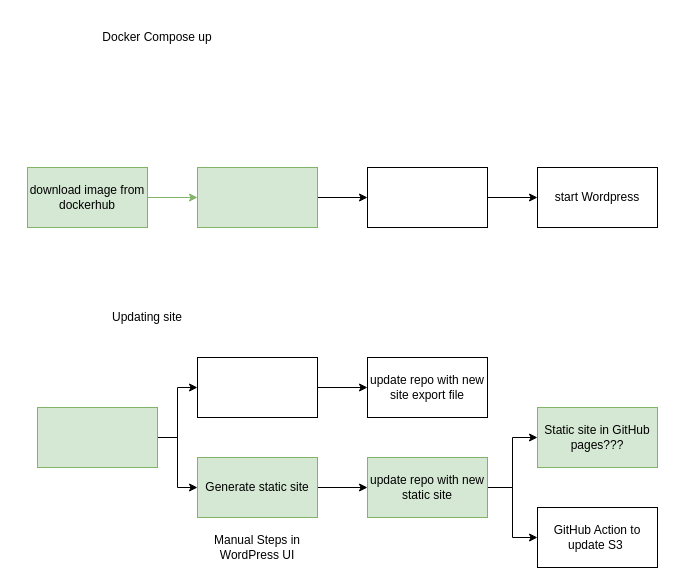
The diagram is 675 pixels wide and 585 high, and some of its shapes have lost their labels. Each missing label, with the box of its shape:
Edit content in Wordpress: (36, 406, 158, 468)
Export site to local machine: (196, 356, 318, 418)
import site export file: (366, 166, 488, 228)
start container: (196, 166, 318, 228)
